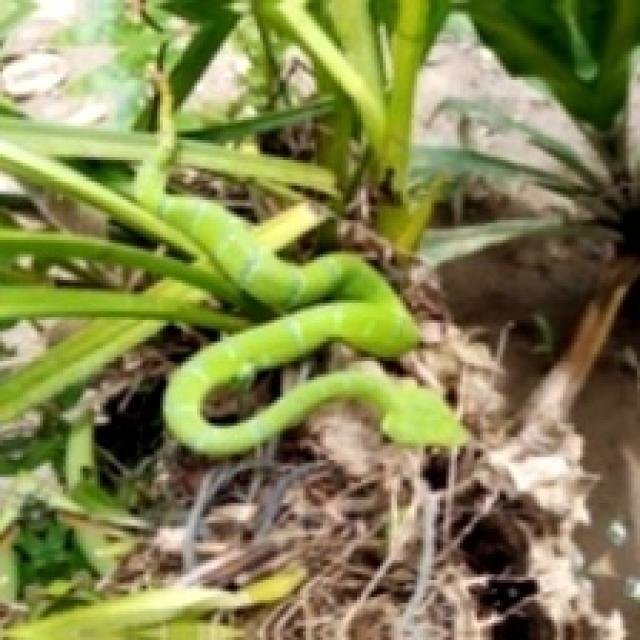north ph temple pitviper: (157, 191, 463, 454)
